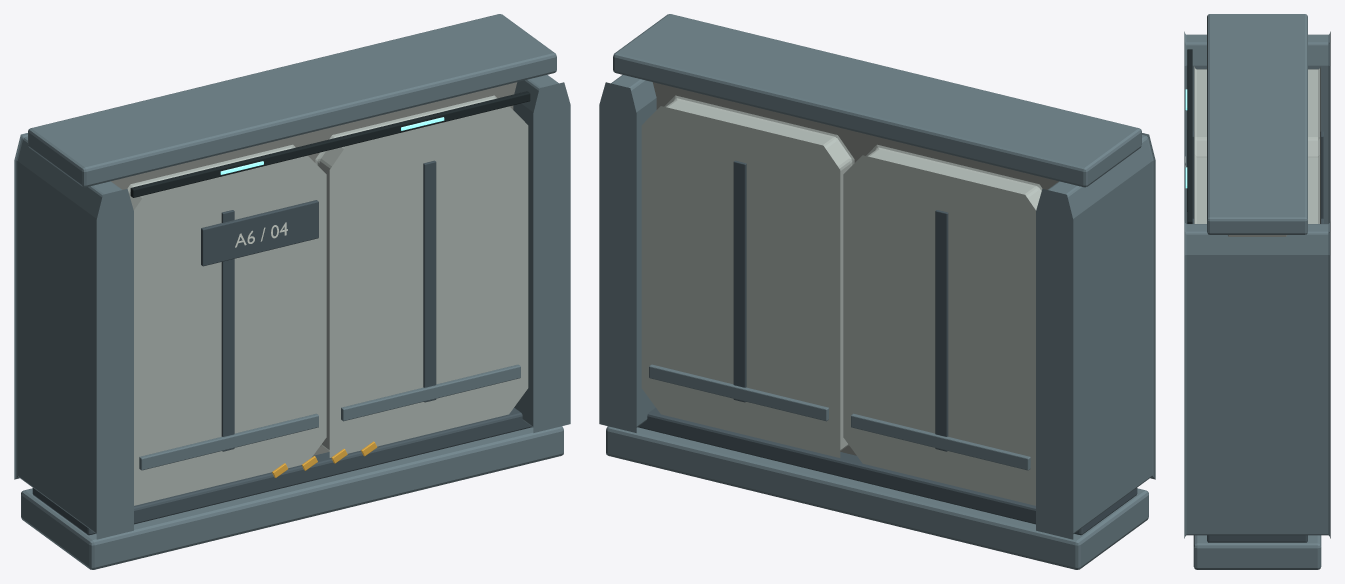
The model's file is wall_standard_d0.glb.
The picture shows the model from 3 angles, left to right: view 1: azimuth 30°, elevation 25°; view 2: azimuth 150°, elevation 25°; view 3: azimuth 270°, elevation 25°; orthographic projection. The views are drawn at different scales.
Parts seen in each view (by area): view 1: Replaceable armor panel.001, Replaceable armor panel, End structural rib, Cap rail, Load-spreading footing, End structural rib.001, Footing top, Identification plate, Upper recessed service channel, Geopolymer core, Panel recessed spine.002, Panel lower reinforcement.002 (+2 smaller); view 2: Rear armor panel.001, Rear armor panel, End structural rib, Cap rail, Load-spreading footing, End structural rib.001, Footing top, Geopolymer core, Panel recessed spine.001, Panel recessed spine.003, Panel lower reinforcement.003, Panel lower reinforcement.001; view 3: End structural rib.001, Cap rail, Load-spreading footing, End structural rib, Rear armor panel, Replaceable armor panel, Upper recessed service channel, Rear armor panel.001, Replaceable armor panel.001, Footing top, Panel recessed spine.001, Panel recessed spine.
Boxes of the visible parts, x1,y1,x2,y2 form: Replaceable armor panel.001: (315, 95, 528, 457); Replaceable armor panel: (127, 144, 326, 505); End structural rib: (14, 133, 133, 539); Cap rail: (28, 14, 556, 187); Load-spreading footing: (21, 426, 563, 569); End structural rib.001: (513, 74, 570, 432); Footing top: (32, 407, 532, 535); Identification plate: (201, 200, 318, 266); Upper recessed service channel: (130, 91, 530, 197); Geopolymer core: (111, 82, 517, 455); Panel recessed spine.002: (423, 160, 436, 402); Panel lower reinforcement.002: (341, 364, 520, 421); Rear armor panel.001: (641, 95, 854, 457); Rear armor panel: (843, 144, 1042, 505); End structural rib: (1036, 133, 1155, 539); Cap rail: (613, 14, 1141, 187); Load-spreading footing: (606, 426, 1148, 569); End structural rib.001: (599, 74, 656, 432); Footing top: (637, 407, 1137, 535); Geopolymer core: (652, 82, 1058, 455); Panel recessed spine.001: (935, 210, 948, 451); Panel recessed spine.003: (733, 160, 746, 402); Panel lower reinforcement.003: (649, 364, 828, 421); Panel lower reinforcement.001: (851, 413, 1030, 470); End structural rib.001: (1184, 221, 1330, 538); Cap rail: (1207, 14, 1307, 234); Load-spreading footing: (1193, 535, 1321, 569); End structural rib: (1184, 31, 1330, 223); Rear armor panel: (1308, 66, 1320, 156); Replaceable armor panel: (1194, 66, 1206, 156); Upper recessed service channel: (1187, 49, 1192, 223); Rear armor panel.001: (1308, 154, 1320, 223); Replaceable armor panel.001: (1194, 154, 1206, 223); Footing top: (1207, 535, 1307, 542); Panel recessed spine.001: (1320, 131, 1323, 218); Panel recessed spine: (1192, 131, 1194, 218).
Size of the model in its own units: 4 by 3.2 by 1.2.
